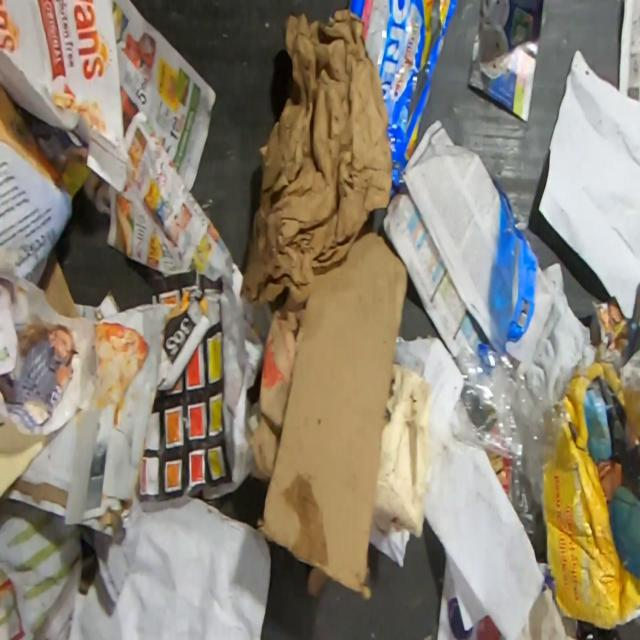cardboard: (255, 219, 410, 600), (540, 356, 640, 630), (245, 288, 306, 478), (372, 360, 433, 539), (309, 566, 327, 596)
rigid_plastic: (457, 185, 561, 563)
soft_plastic: (348, 0, 460, 203)
